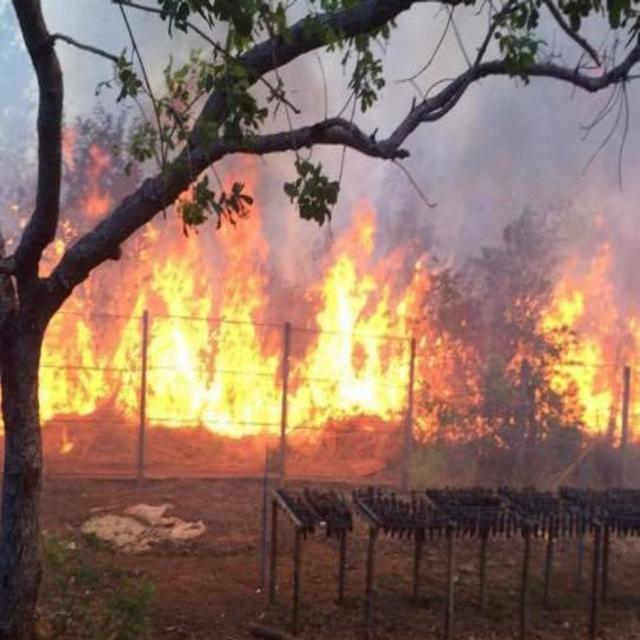Fire: (52, 172, 488, 461), (518, 238, 638, 446)
